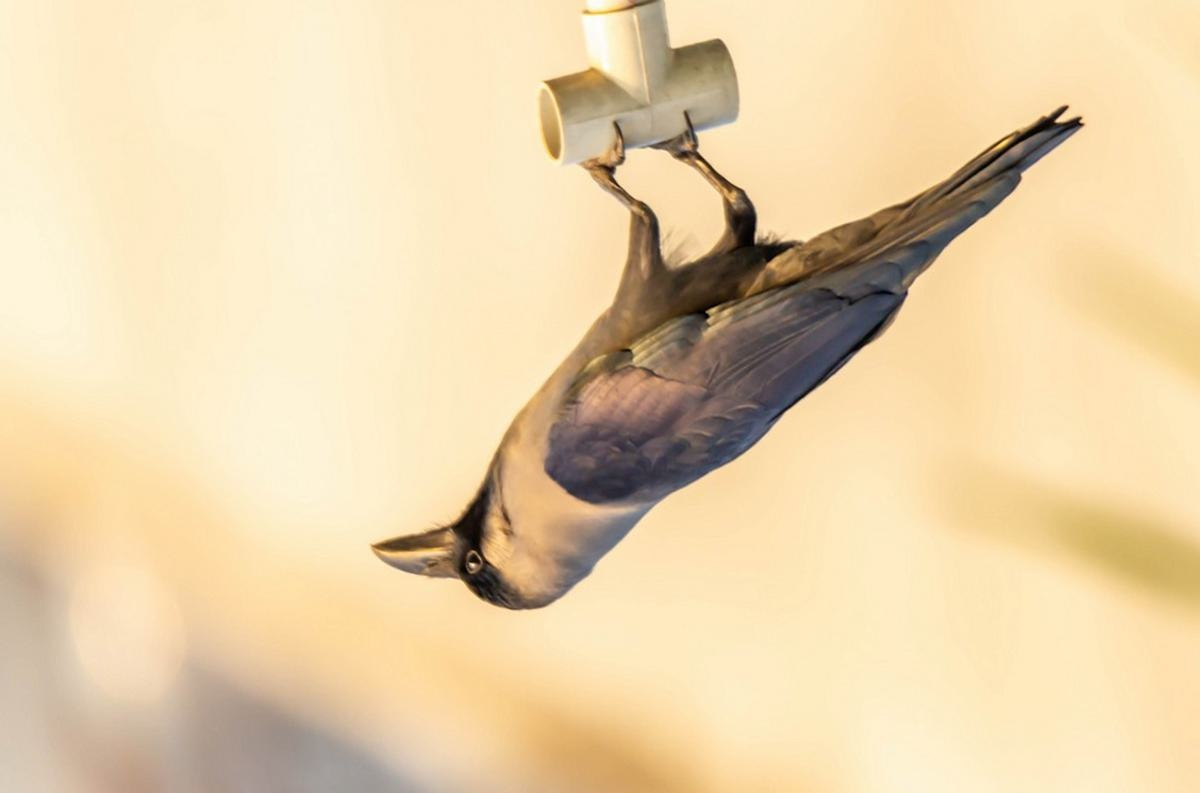crow: (376, 82, 1070, 629)
